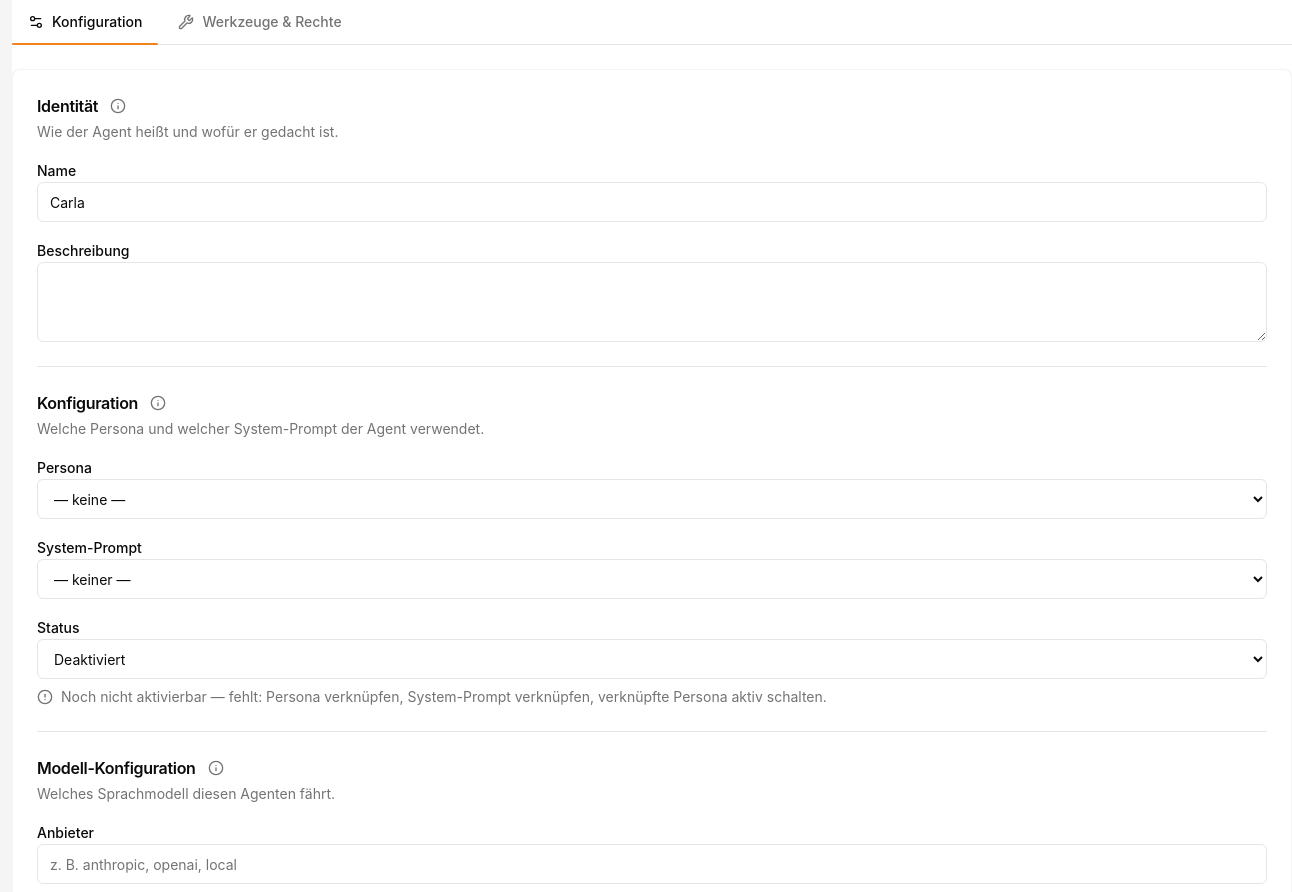
AgentEditorForm › rendert die Werkzeuge-&-Rechte-Sektion mit Read-Scopes und Write-Switches
The width and height of the screenshot is (1292, 892).
Click the tab "Werkzeuge & Rechte" at (260, 22), box [162,0,358,44]
(page scrolled)
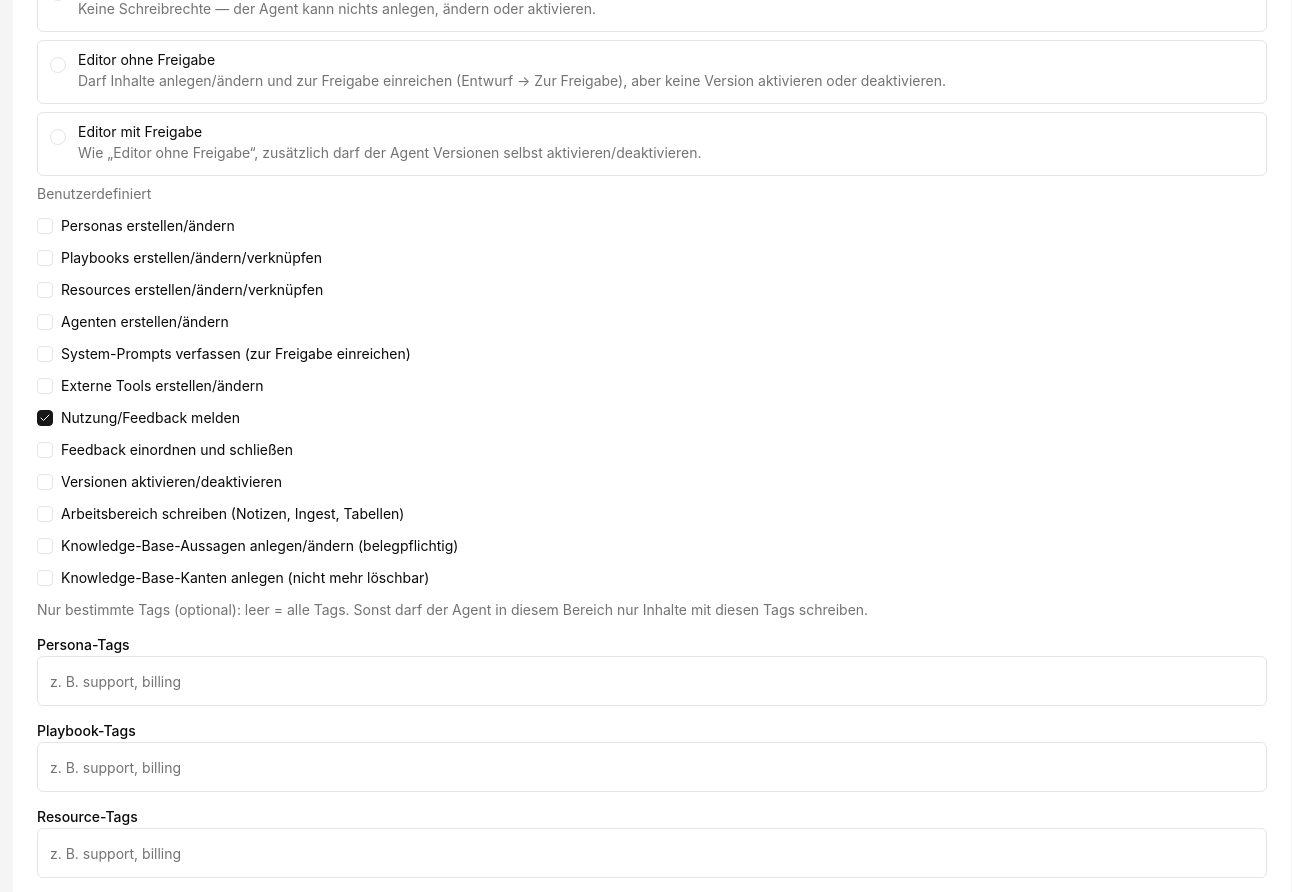
Expected: the checkbox labelled "Playbooks erstellen/ändern/verknüpfen" is not checked, [29,242,61,274]
Expected: the checkbox labelled "System-Prompts verfassen (zur Freigabe einreichen)" is not checked, [29,338,61,370]
Expected: the checkbox labelled "Nutzung/Feedback melden" is checked, [29,402,61,434]
